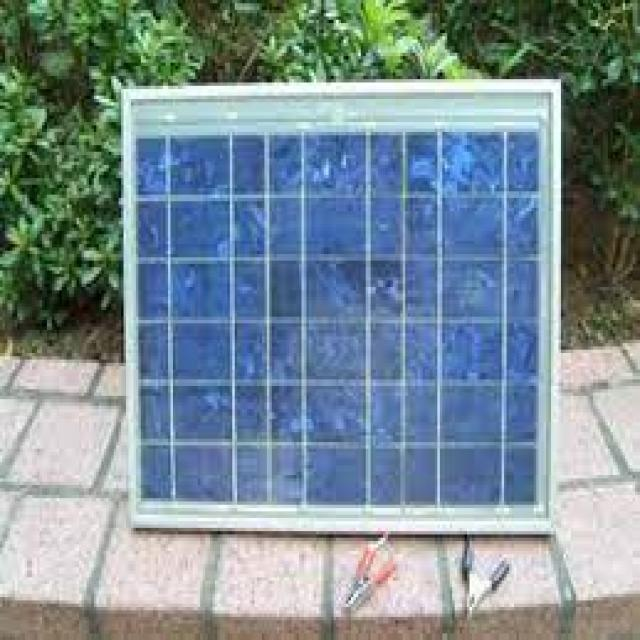faulty: (134, 121, 553, 533)
